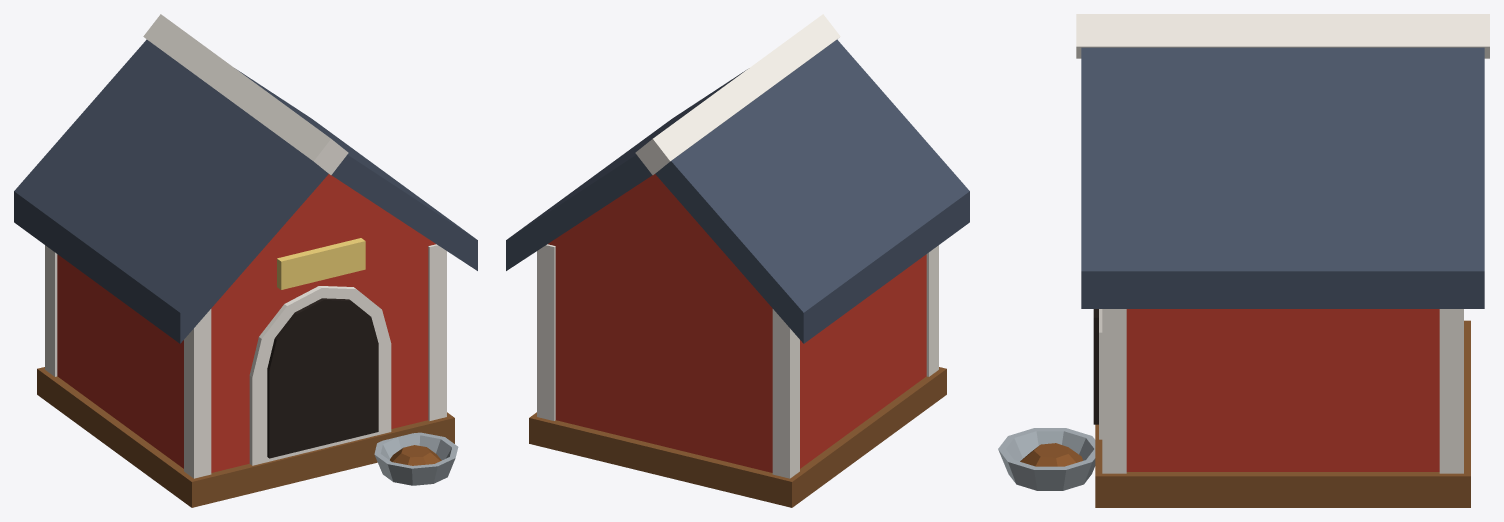
Rendered from doghouse.glb.
The picture shows the model from 3 angles, left to right: view 1: azimuth 30°, elevation 25°; view 2: azimuth 150°, elevation 25°; view 3: azimuth 270°, elevation 25°; orthographic projection. The views are drawn at different scales.
Visible parts, largest first — view 1: roof, walls, door, base, corners, ridge_cap, door_frame, name_plate, bowl, kibble; view 2: walls, roof, base, corners, ridge_cap; view 3: roof, walls, base, ridge_cap, corners, bowl, kibble, door.
Part boxes in pixels (left/top/right/bottom): roof: left=14, top=39, right=477, bottom=343; walls: left=57, top=174, right=435, bottom=472; door: left=267, top=298, right=378, bottom=458; base: left=37, top=367, right=454, bottom=507; corners: left=45, top=244, right=446, bottom=478; ridge_cap: left=143, top=14, right=348, bottom=174; door_frame: left=249, top=286, right=391, bottom=465; name_plate: left=277, top=238, right=365, bottom=289; bowl: left=374, top=432, right=458, bottom=485; kibble: left=390, top=445, right=441, bottom=465; walls: left=548, top=174, right=926, bottom=472; roof: left=506, top=39, right=969, bottom=343; base: left=529, top=367, right=946, bottom=507; corners: left=537, top=244, right=938, bottom=478; ridge_cap: left=635, top=14, right=840, bottom=174; roof: left=1081, top=47, right=1484, bottom=308; walls: left=1126, top=309, right=1439, bottom=471; base: left=1095, top=320, right=1470, bottom=507; ridge_cap: left=1076, top=14, right=1489, bottom=58; corners: left=1102, top=309, right=1463, bottom=473; bowl: left=998, top=428, right=1095, bottom=490; kibble: left=1020, top=443, right=1082, bottom=466; door: left=1093, top=309, right=1098, bottom=424.
Bounding box in the file's own units: 1.2 × 1.32 × 1.42.
